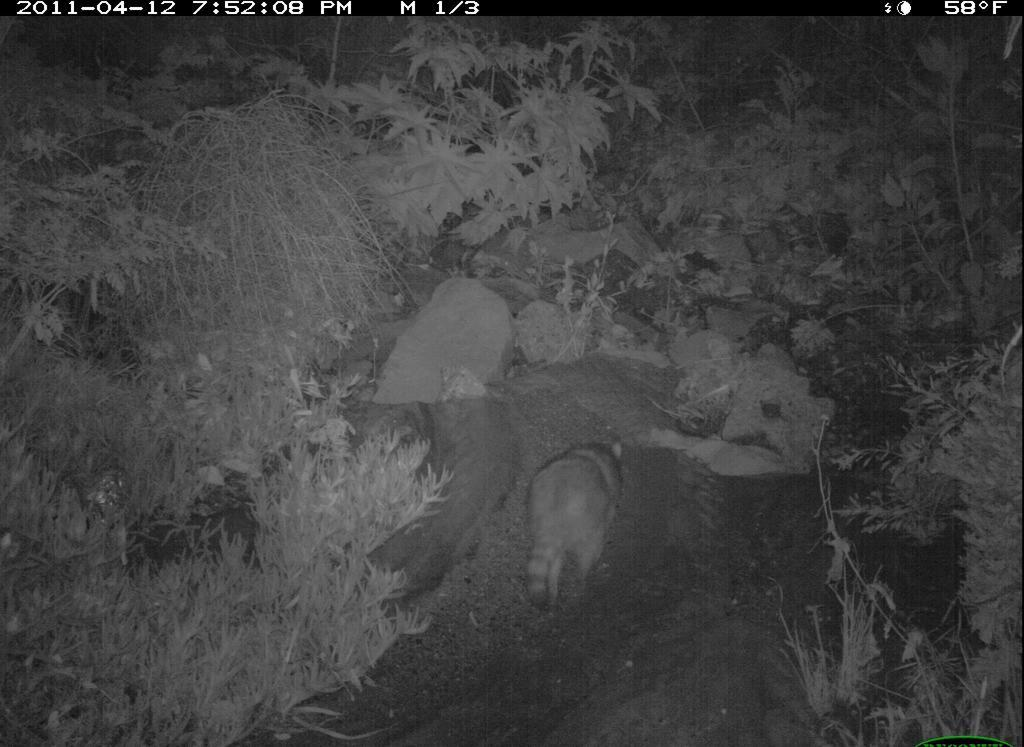raccoon: (516, 428, 635, 628)
